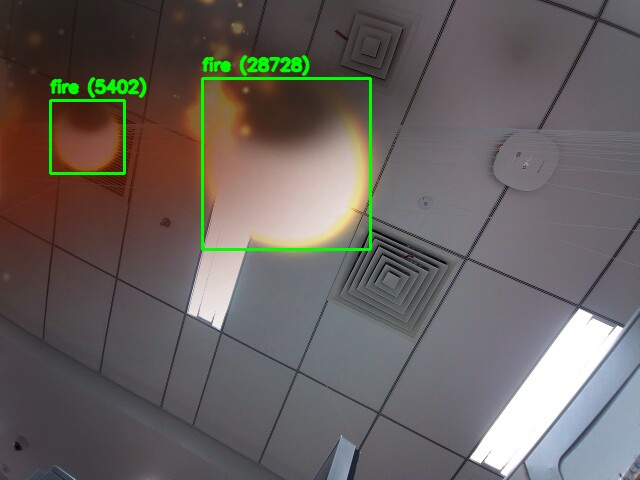fire: (202, 78, 370, 249), (50, 100, 124, 173)
